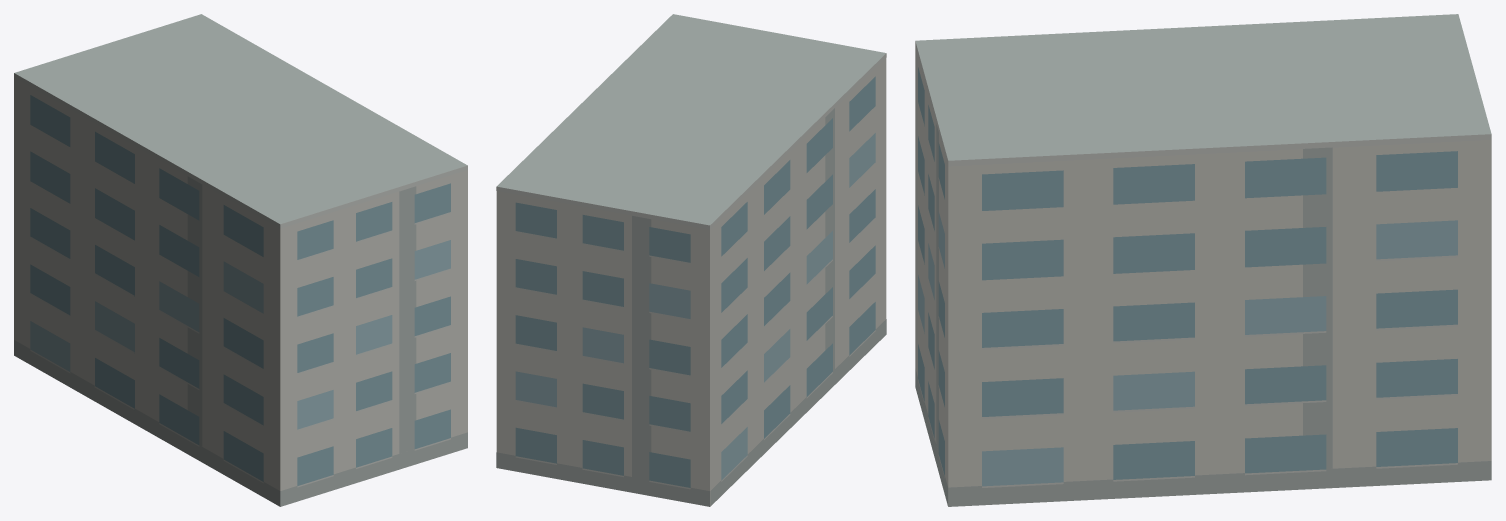
The model's file is residential-3ece4692-c92d-4933-b662-1ddace9bfd6a.glb.
The picture shows the model from 3 angles, left to right: view 1: azimuth 30°, elevation 25°; view 2: azimuth 150°, elevation 25°; view 3: azimuth 270°, elevation 25°; orthographic projection. The views are drawn at different scales.
Parts seen in each view (by area): view 1: residential-3ece4692-c92d-4933-b662-1ddace9bfd6a.tmp; view 2: residential-3ece4692-c92d-4933-b662-1ddace9bfd6a.tmp; view 3: residential-3ece4692-c92d-4933-b662-1ddace9bfd6a.tmp.
Part boxes in pixels (box(x1,y1,x2,y2)): residential-3ece4692-c92d-4933-b662-1ddace9bfd6a.tmp: box(14, 14, 467, 506); residential-3ece4692-c92d-4933-b662-1ddace9bfd6a.tmp: box(496, 14, 886, 506); residential-3ece4692-c92d-4933-b662-1ddace9bfd6a.tmp: box(915, 14, 1491, 506).
Size of the model in its own units: 13.88 by 15.25 by 23.02.
